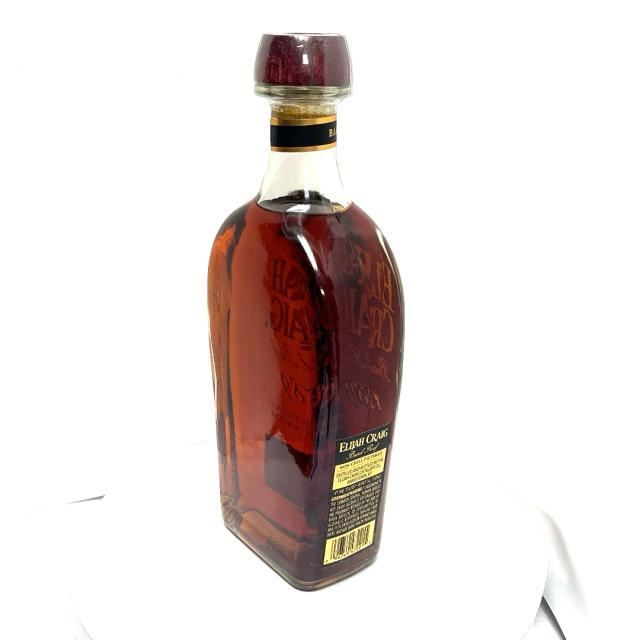ELIJAH CRAIG BARREL PROOF 750ML: (184, 27, 421, 590)
